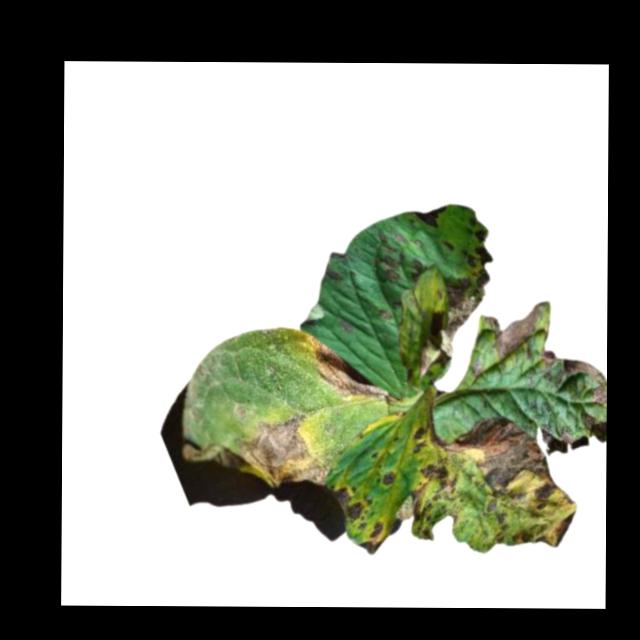Early_blight: (445, 415, 587, 550), (180, 410, 332, 485), (418, 269, 493, 375), (309, 332, 394, 398), (542, 349, 606, 406), (483, 303, 543, 361), (411, 460, 449, 541), (332, 484, 373, 518), (358, 518, 384, 556), (463, 243, 495, 268), (410, 204, 446, 226), (412, 423, 430, 453), (384, 255, 400, 280), (380, 469, 398, 486)
